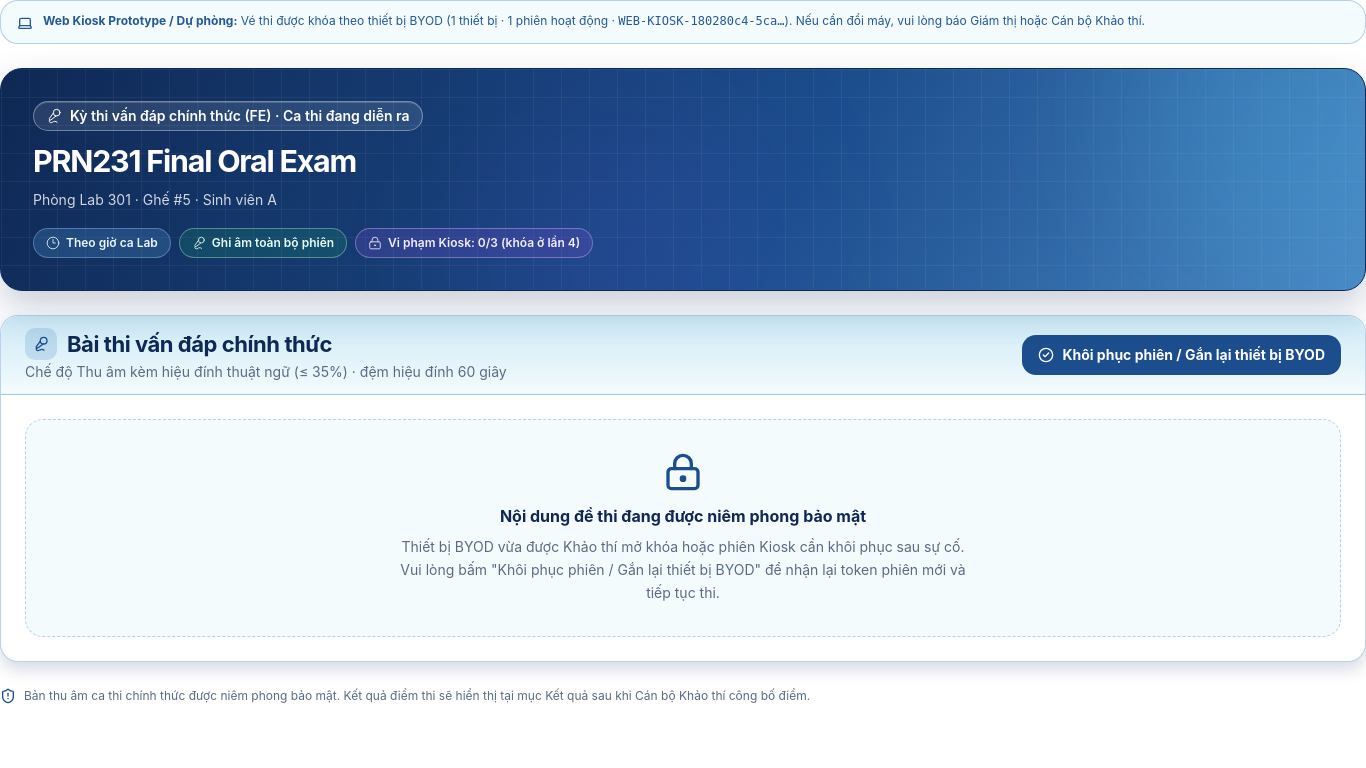
it: OfficialExamPage — FE-3 & FE-4 Kiosk BYOD, VoiceOnly/35% & Per-Turn Follow-up › unblocks BYOD rebind/resume when ticket is IN_PROGRESS with deviceId null (after EO unlock) or empty questions (after crash/lost sessionStorage)
Click the button "Khôi phục phiên / Gắn lại thiết bị BYOD" at (1182,355), box x1=1022 y1=335 x2=1341 y2=375
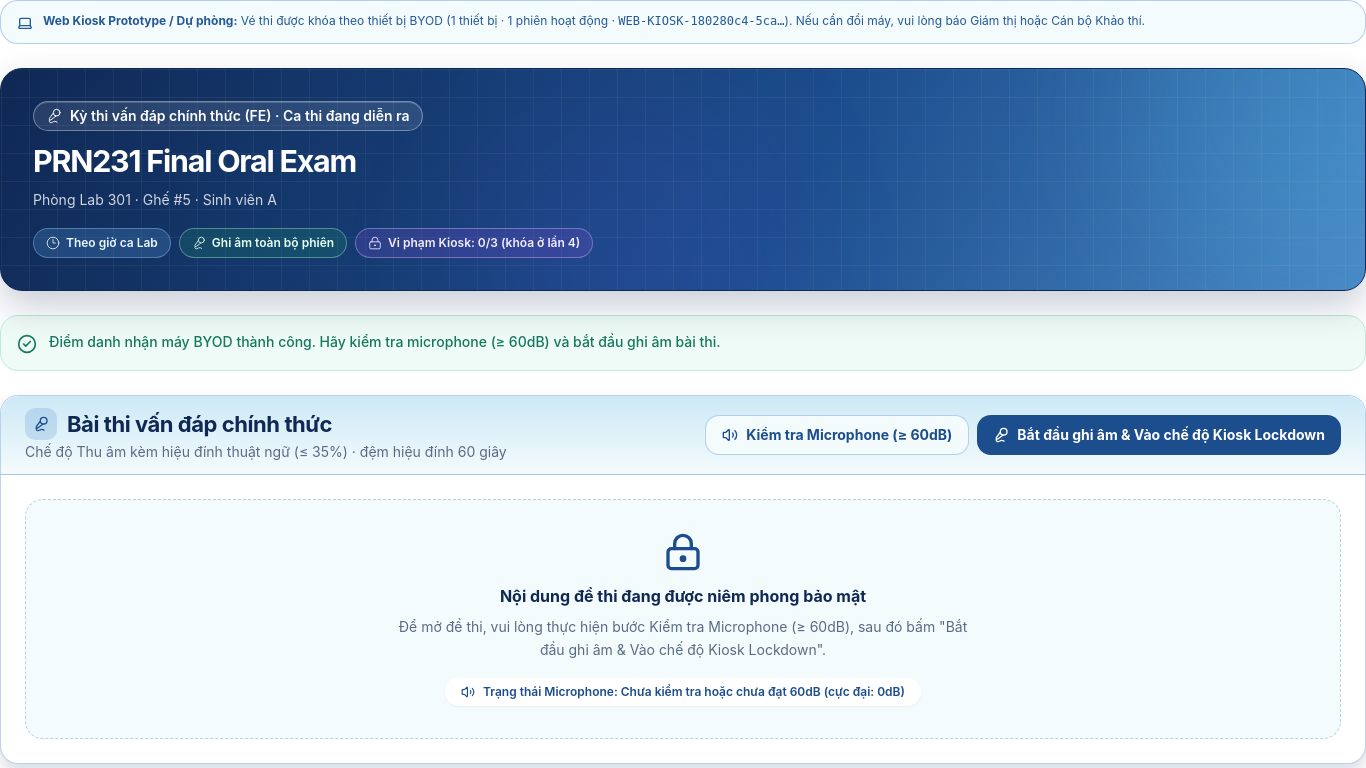
Expected: the button "Kiểm tra Microphone (≥ 60dB)" is shown, x1=705 y1=415 x2=969 y2=455
